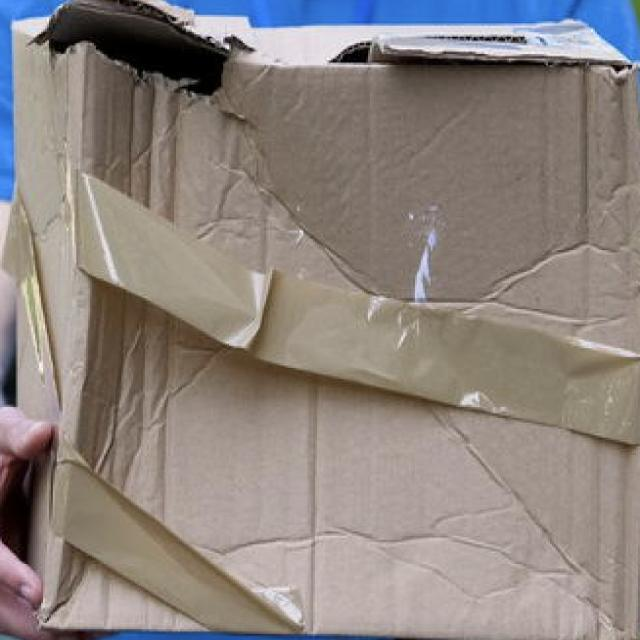hole: (28, 8, 238, 100)
